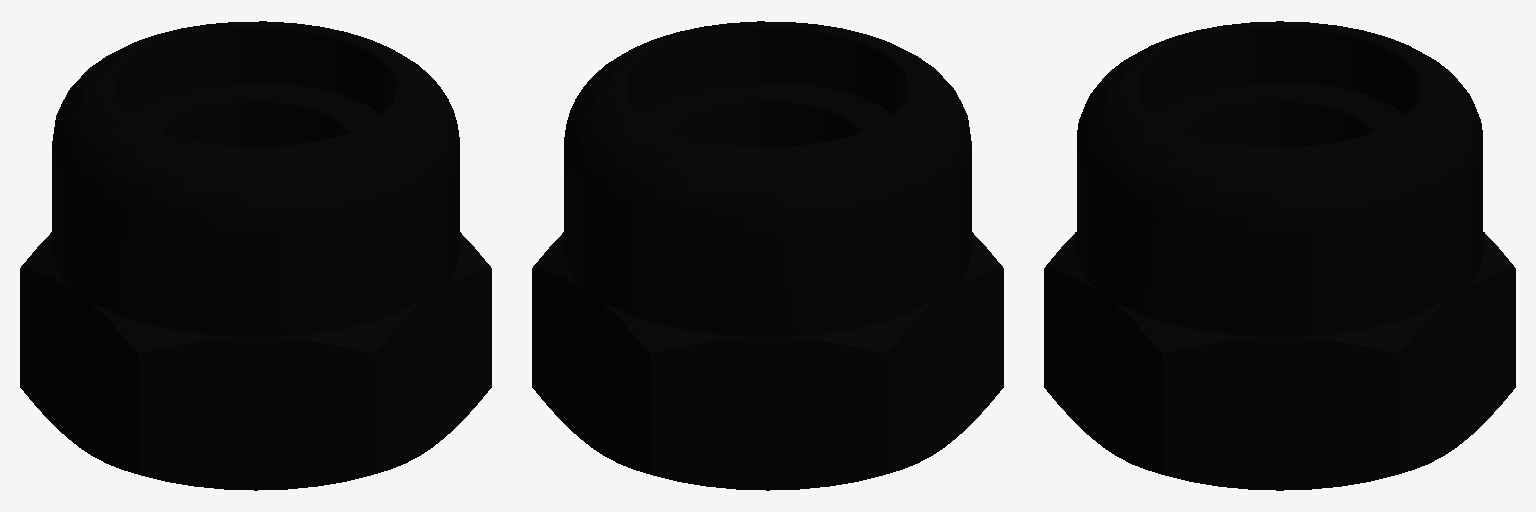
The robot description file, URDF, robot "nut":
<?xml version="1.0"?>
<!--
  NUT (M3 FASTENER) — nut.urdf
  =========================================================================
  Source mesh   : meshes/M3_Nut.obj  (Fusion 360 export, units = cm)
  Raw bbox      : 0.700 x 0.808 x 0.600 (cm) -> 7mm x 8.08mm x 6mm
  Scale applied : 0.01 (cm -> m). Already tiny relative to gripper/payload
                  limits — scaling is purely the cm->m unit correction.

  COLLISION SIMPLIFICATION: hex-nut mesh edges/chamfers are a common
  source of solver jitter for a two-finger grasp. Visual keeps the
  detailed mesh; collision uses a simple <box> sized to the nut's
  across-flats/thickness bounding dimensions.

  Mass hardcoded to 0.05 kg per spec (small hardware).
-->
<robot name="nut">

  <material name="black_oxide">
    <!-- Swap to rgba="0.71 0.55 0.15 1.0" for a brass finish if preferred -->
    <color rgba="0.05 0.05 0.05 1.0"/>
  </material>

  <link name="nut_link">

    <inertial>
      <!-- Box approx: Lx=0.007m, Ly=0.00808m, Lz=0.006m, m=0.05kg -->
      <origin xyz="0 0 0" rpy="0 0 0"/>
      <mass value="0.05"/>
      <inertia ixx="4.220e-07" ixy="0.0" ixz="0.0"
               iyy="3.540e-07" iyz="0.0"
               izz="4.760e-07"/>
    </inertial>

    <visual>
      <origin xyz="0 0 0" rpy="0 0 0"/>
      <geometry>
        <mesh filename="../meshes/M3_Nut.obj" scale="0.01 0.01 0.01"/>
      </geometry>
      <material name="black_oxide"/>
    </visual>

    <collision>
      <origin xyz="0 0 0" rpy="0 0 0"/>
      <geometry>
        <box size="0.007 0.00808 0.006"/>
      </geometry>
    </collision>

  </link>

  <!--
    Genesis friction: set at load time via material, e.g.
        gs.materials.Rigid(friction=0.9)
    Black-oxide finish is slightly less polished than bare/chrome steel,
    so a marginally higher mu than the bearing is used here.
  -->
  <gazebo reference="nut_link">
    <mu1>0.9</mu1>
    <mu2>0.9</mu2>
  </gazebo>

</robot>

--- Render facts (derived) ---
Views: 3 orthographic renders of the robot side by side, from view 1: azimuth 30°, elevation 25°; view 2: azimuth 150°, elevation 25°; view 3: azimuth 270°, elevation 25°.
Model nut with 1 links and 0 joints (none), rooted at nut_link, posed every joint at zero.
Visible links, largest first — view 1: nut_link; view 2: nut_link; view 3: nut_link.
Boxes of the visible links, x1,y1,x2,y2 form: nut_link: (20, 21, 491, 490); nut_link: (532, 21, 1003, 490); nut_link: (1044, 21, 1515, 490).
Bounding box of the posed robot: 0.007 × 0.0081 × 0.006 m (x, y, z).
Meshes: 1 distinct files referenced, 1 mesh visuals loaded (1 OBJ).
